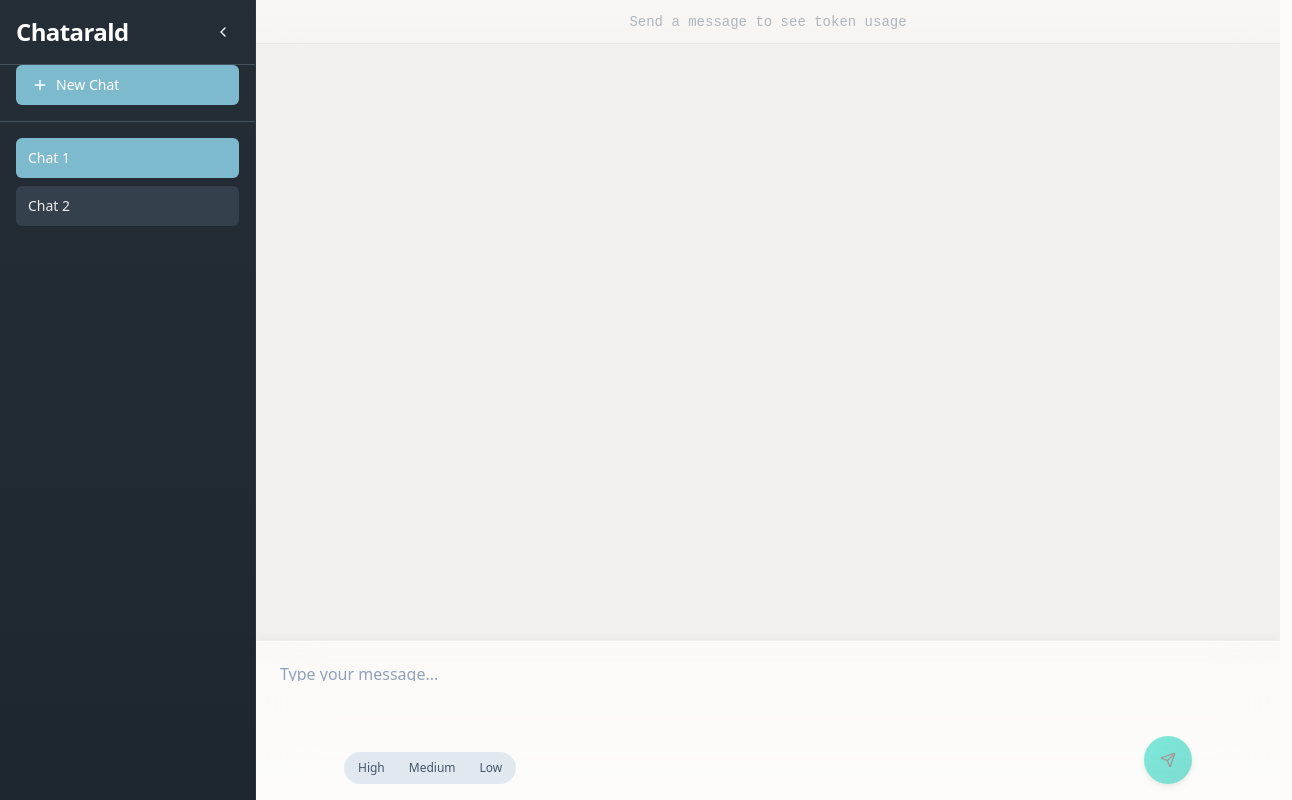
Test: App Component › reorders list so most recently messaged conversation moves to top
The width and height of the screenshot is (1292, 800).
Expected: the text "Chat 1" is shown, [28, 148, 70, 167]
Expected: the text "Chat 2" is shown, [28, 196, 70, 215]
Note: Select Chat 2
Click the button "Chat 2" at (128, 206), box [16, 186, 239, 226]
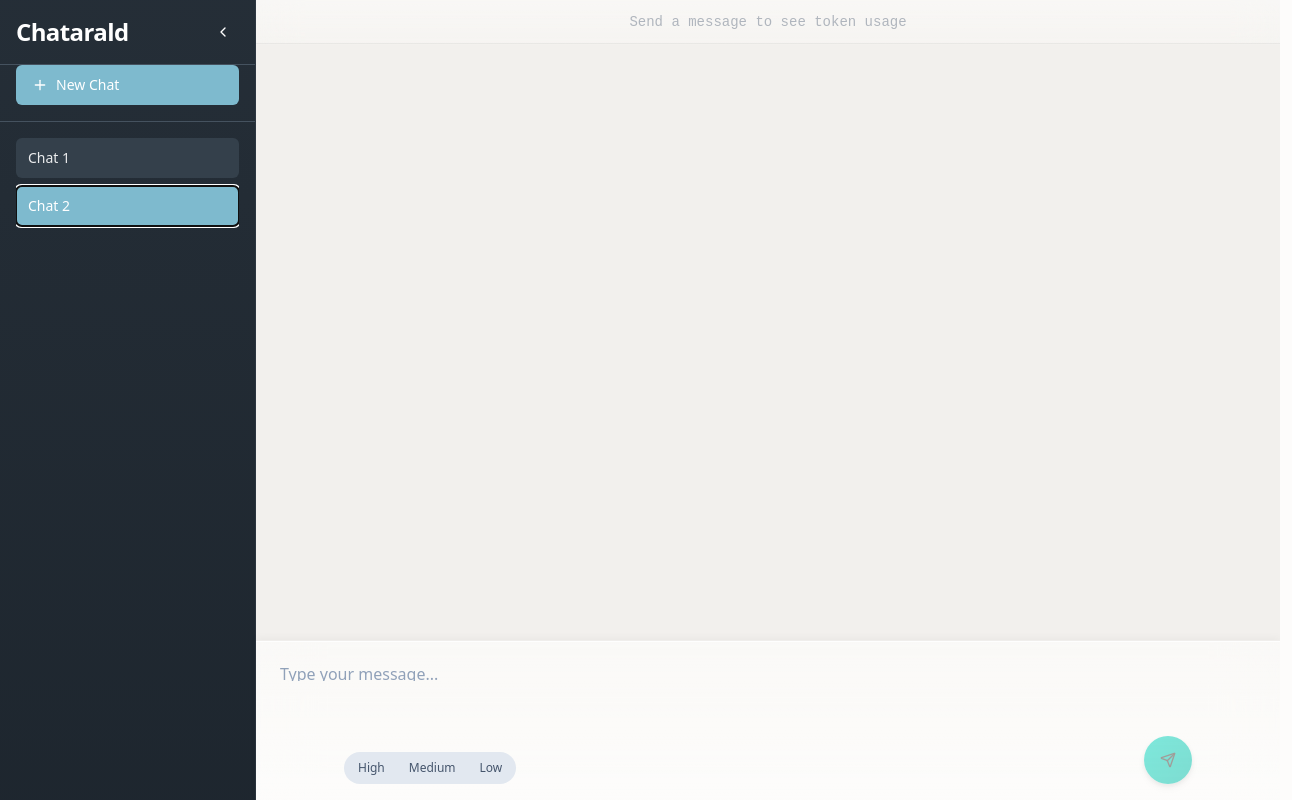
Note: Type a message and send (Enter)
Type "Hello" into the text box with placeholder "Type your message..." at (768, 661), box [256, 641, 1280, 681]
Then press Enter
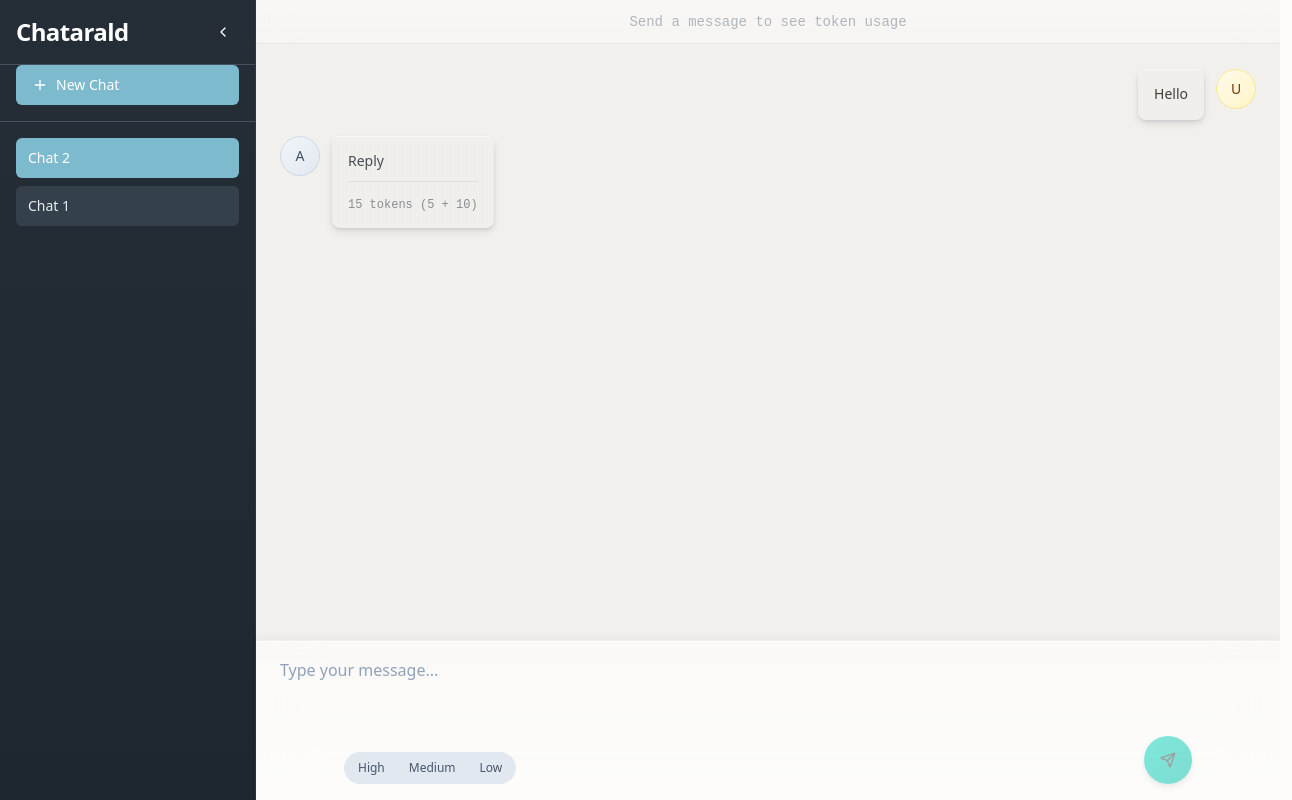
Expected: the text "Chat 2" is shown, [28, 148, 70, 167]
Expected: the text "Reply" is shown, [348, 151, 384, 170]
